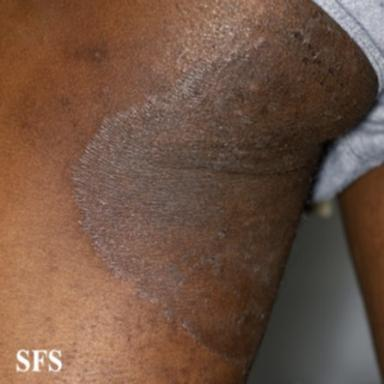Tinea-Corporis: (74, 3, 373, 358)
